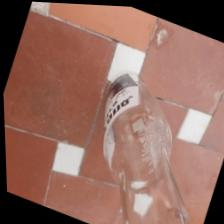glass: (61, 59, 224, 224)
